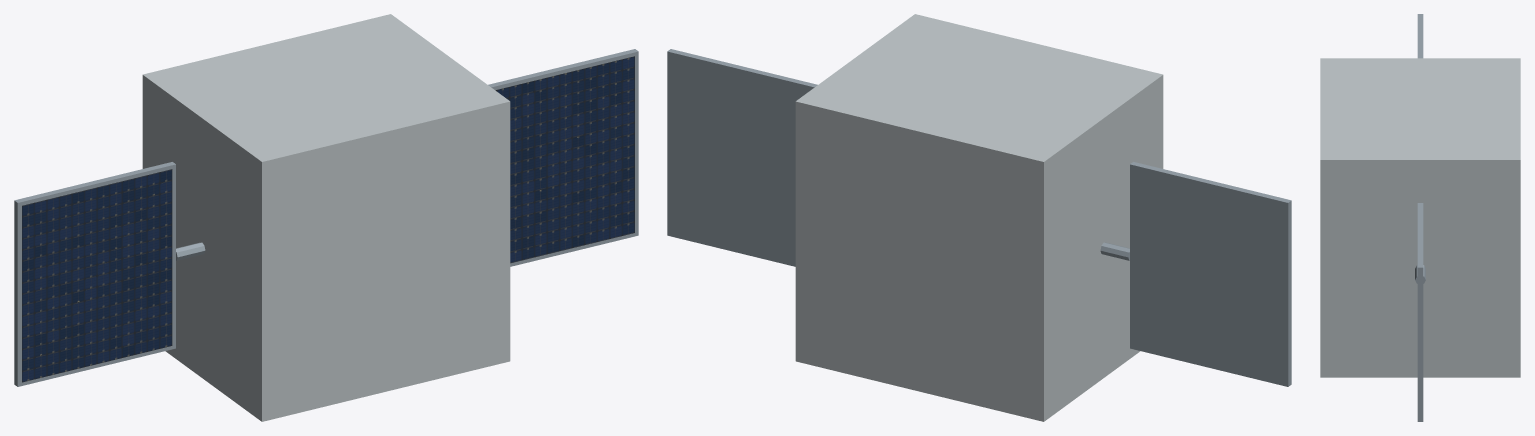
The model's file is ref-bird-26959.glb.
3 views of the same model, side by side, from view 1: azimuth 30°, elevation 25°; view 2: azimuth 150°, elevation 25°; view 3: azimuth 270°, elevation 25° (orthographic). The views are drawn at different scales.
Visible parts, largest first — view 1: Spacecraft body, Photovoltaic laminates (×2), Array frame (×2); view 2: Spacecraft body, Array frame (×2); view 3: Spacecraft body, Array frame (×2).
Part boxes in pixels (x1,y1,x2,y2): Spacecraft body: (142, 14, 510, 421); Photovoltaic laminates (×2): (22, 56, 634, 382); Array frame (×2): (14, 49, 638, 386); Spacecraft body: (795, 14, 1163, 421); Array frame (×2): (667, 49, 1291, 386); Spacecraft body: (1320, 58, 1520, 377); Array frame (×2): (1417, 14, 1423, 421).
Bounding box in the file's own units: 1.5 × 0.6 × 0.5.
Materials: 3 (1 with a texture image).
